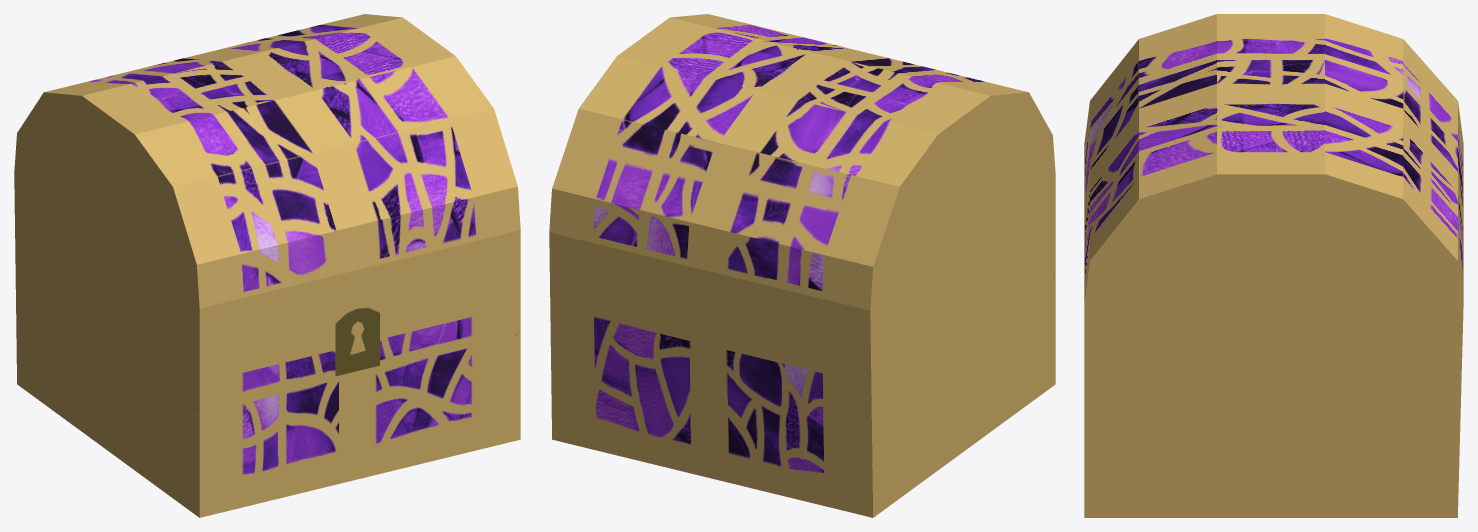
The model's file is chest02.glb.
3 views of the same model, side by side, from view 1: azimuth 30°, elevation 25°; view 2: azimuth 150°, elevation 25°; view 3: azimuth 270°, elevation 25° (orthographic). The views are drawn at different scales.
Parts seen in each view (by area): view 1: chest02; view 2: chest02; view 3: chest02.
Boxes of the visible parts, x1,y1,x2,y2 form: chest02: [14, 14, 520, 517]; chest02: [549, 14, 1055, 517]; chest02: [1084, 14, 1463, 517].
Size of the model in its own units: 1 by 1 by 1.
Materials: 1 (1 with a texture image).
